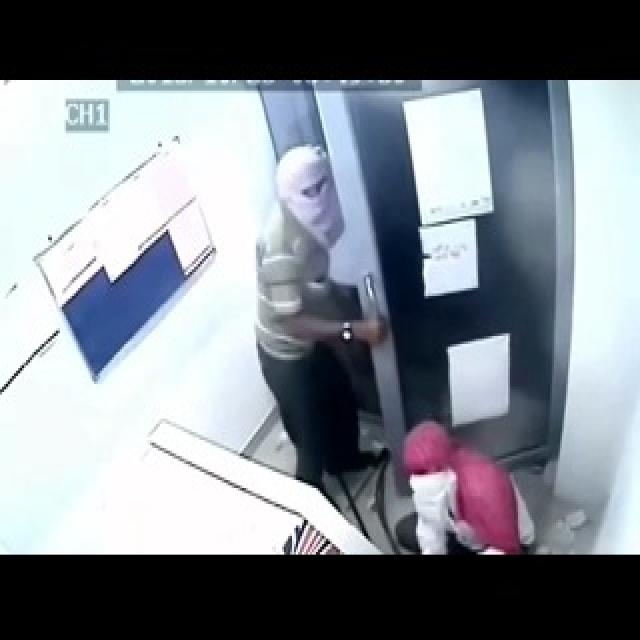thief: (240, 149, 386, 428), (398, 371, 514, 560)
